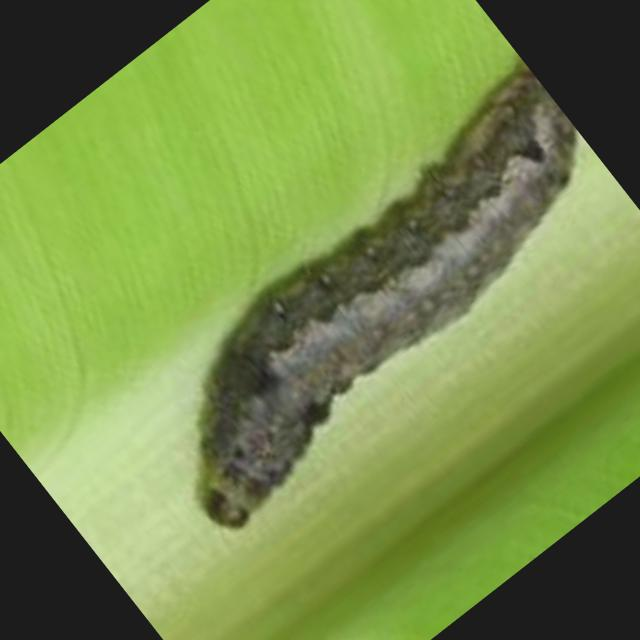Tobacco cutworm: (8, 0, 640, 635)
